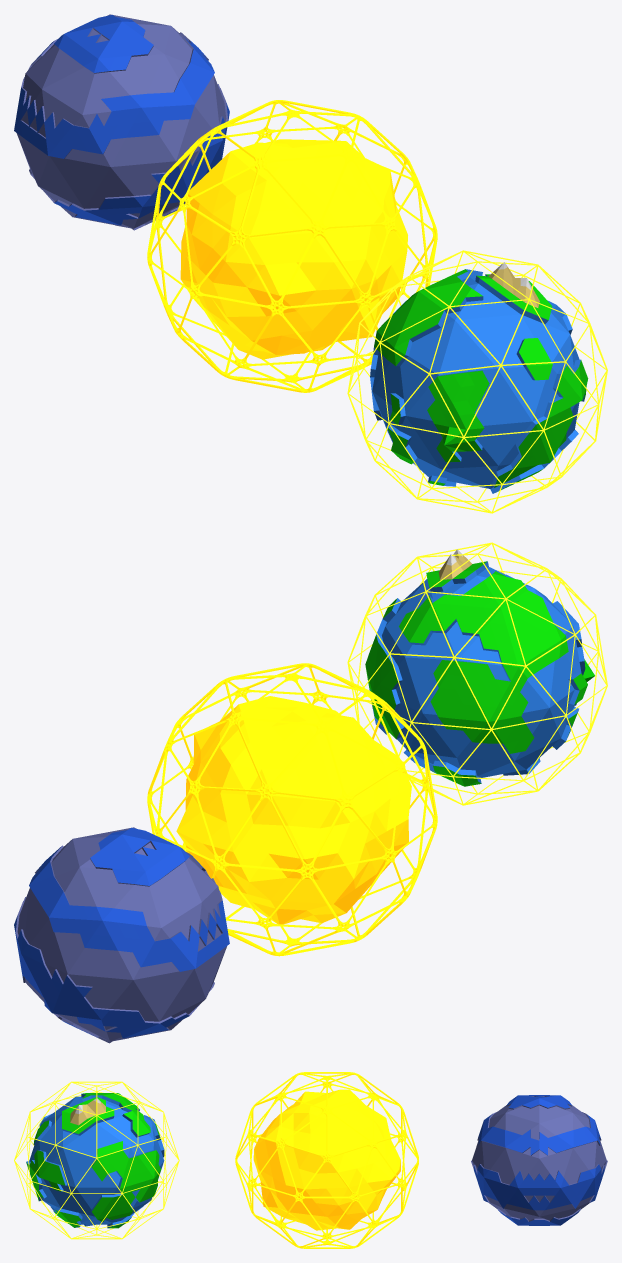
Rendered from planet2.fbx.
3 views of the same model, one above another, from view 1: azimuth 30°, elevation 25°; view 2: azimuth 150°, elevation 25°; view 3: azimuth 270°, elevation 25° (orthographic). The views are drawn at different scales.
Parts seen in each view (by area): view 1: Icosphere, Icosphere.005, blueplanet, Icosphere.001, earthSealed; view 2: Icosphere, Icosphere.005, blueplanet, Icosphere.001, earthSealed; view 3: Icosphere, Icosphere.005, blueplanet, Icosphere.001, earthSealed.
Part boxes in pixels (bbox=[...]): Icosphere: bbox=[180, 139, 407, 359]; Icosphere.005: bbox=[370, 262, 588, 493]; blueplanet: bbox=[14, 14, 229, 230]; Icosphere.001: bbox=[147, 100, 437, 392]; earthSealed: bbox=[347, 250, 607, 513]; Icosphere: bbox=[176, 696, 411, 924]; Icosphere.005: bbox=[365, 549, 594, 786]; blueplanet: bbox=[14, 827, 229, 1043]; Icosphere.001: bbox=[147, 663, 437, 956]; earthSealed: bbox=[347, 542, 607, 805]; Icosphere: bbox=[253, 1089, 400, 1230]; Icosphere.005: bbox=[26, 1093, 164, 1228]; blueplanet: bbox=[471, 1095, 607, 1225]; Icosphere.001: bbox=[235, 1072, 418, 1248]; earthSealed: bbox=[14, 1081, 179, 1239].
Bounding box in the file's own units: 1049 × 1090 × 3522.
